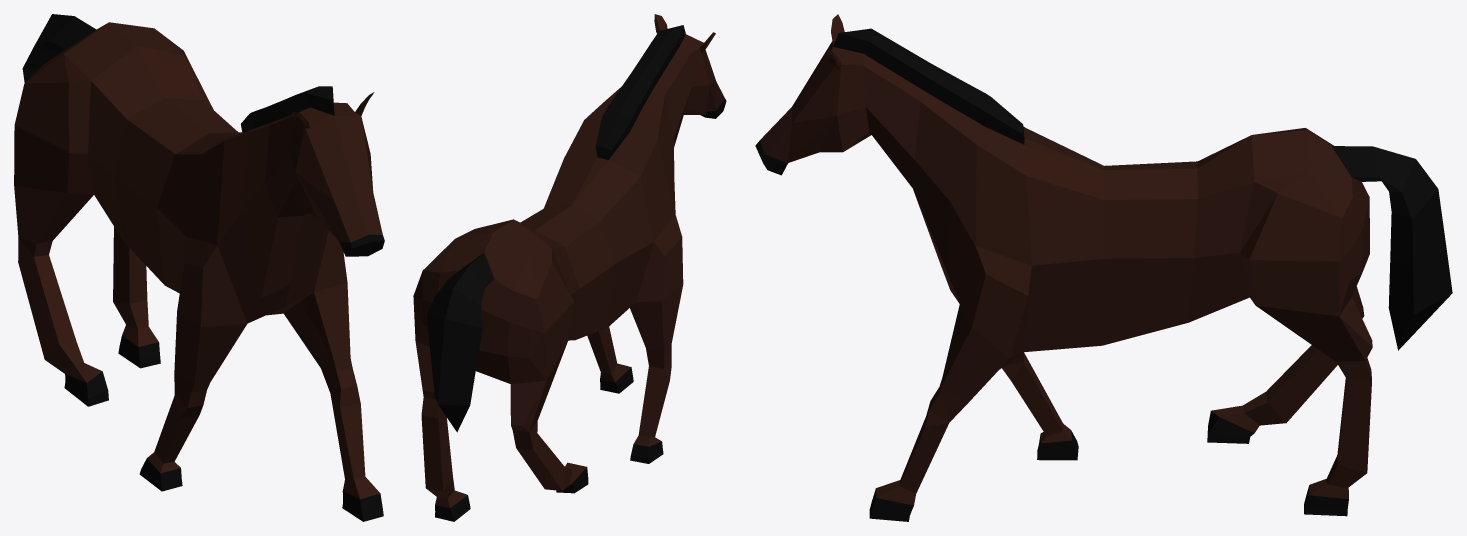
The model's file is Horse_000031.obj.
3 renders of one model, left to right at view 1: azimuth 30°, elevation 25°; view 2: azimuth 150°, elevation 25°; view 3: azimuth 270°, elevation 25°, orthographic. The views are drawn at different scales.
Parts seen in each view (by area): view 1: Horse_Cylinder; view 2: Horse_Cylinder; view 3: Horse_Cylinder.
Part boxes in pixels (x1,y1,x2,y2): Horse_Cylinder: (14, 14, 384, 521); Horse_Cylinder: (413, 14, 726, 521); Horse_Cylinder: (755, 14, 1452, 521).
Size of the model in its own units: 2.57 by 6.67 by 9.22.
